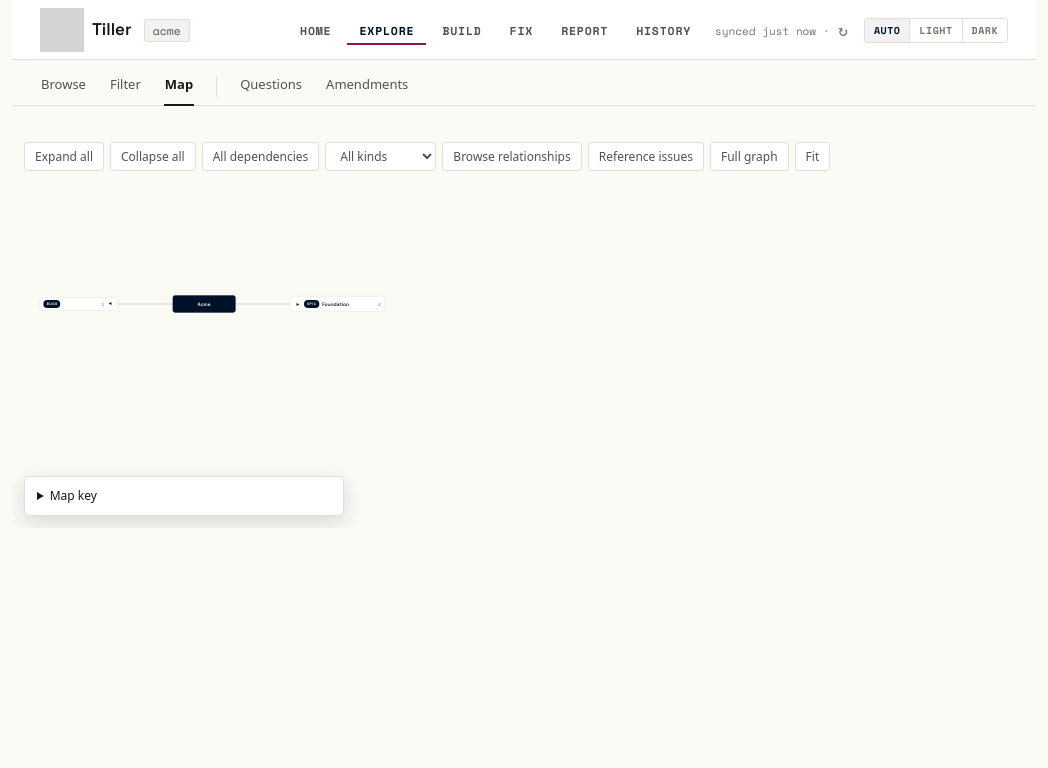
it: Explore: the map mode › pans to a node picked out of the docked card, and holds still for one clicked on the canvas
The width and height of the screenshot is (1048, 768).
expect the number of elements with class "map-card" is 3: met, box [173,295,236,312]; [291,296,385,312]; [39,297,118,310]
Click the button "Expand all" at {"x": 64, "y": 156}, box [24,142,104,171]
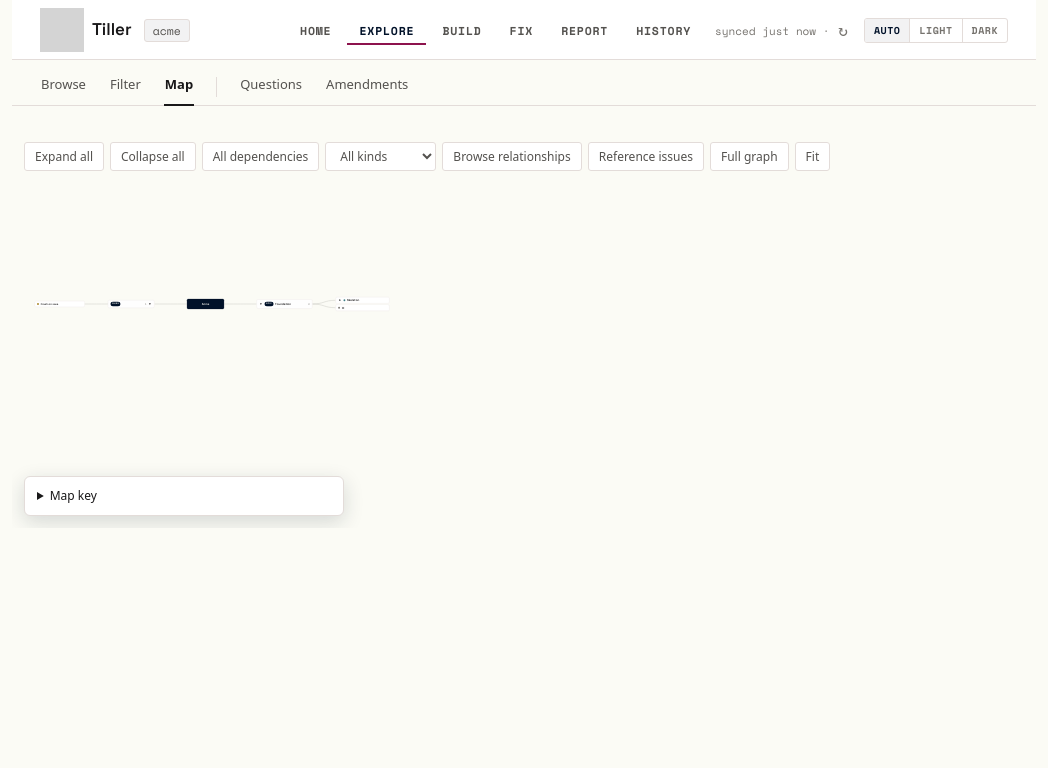
expect the number of elements with class "map-card" is 6: met, box [187,299,224,309]; [257,299,312,308]; [336,297,390,303]; [336,304,390,311]; [108,300,154,308]; [34,301,85,307]
Click the button "CI" at {"x": 363, "y": 307}, box [338,304,387,310]
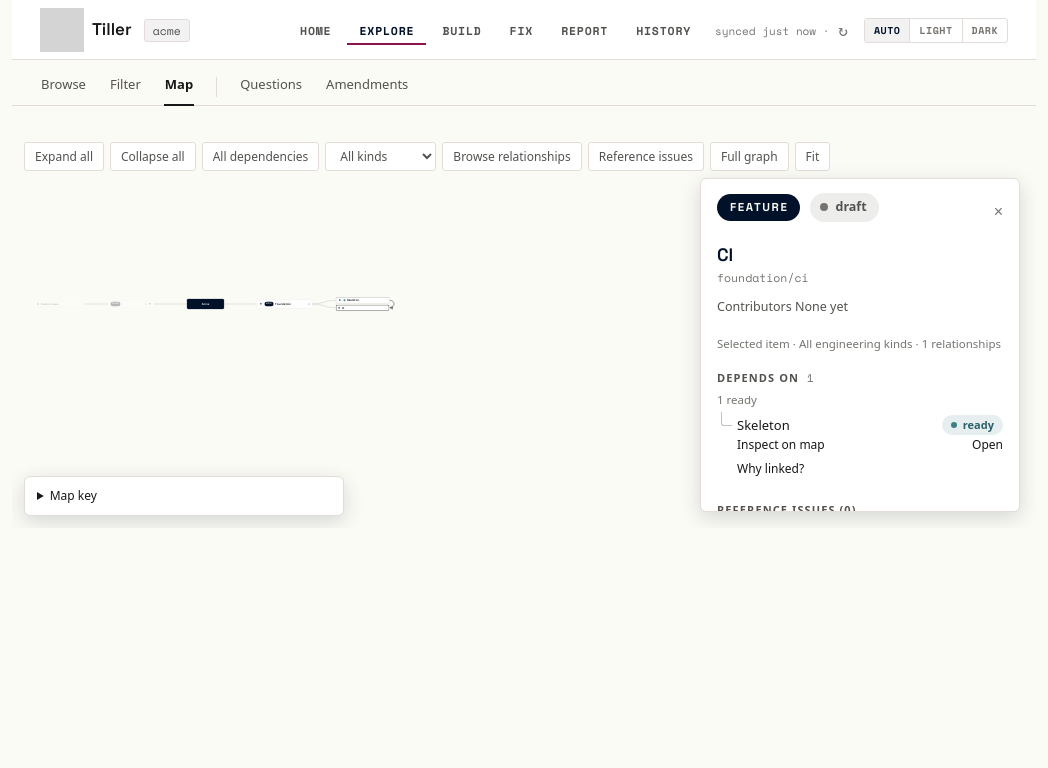
expect the heading "CI" is shown: met, box [717,242,733,266]
Click the button with aria-label "Inspect on map: Skeleton" at {"x": 849, "y": 445}, box [737,435,960,455]
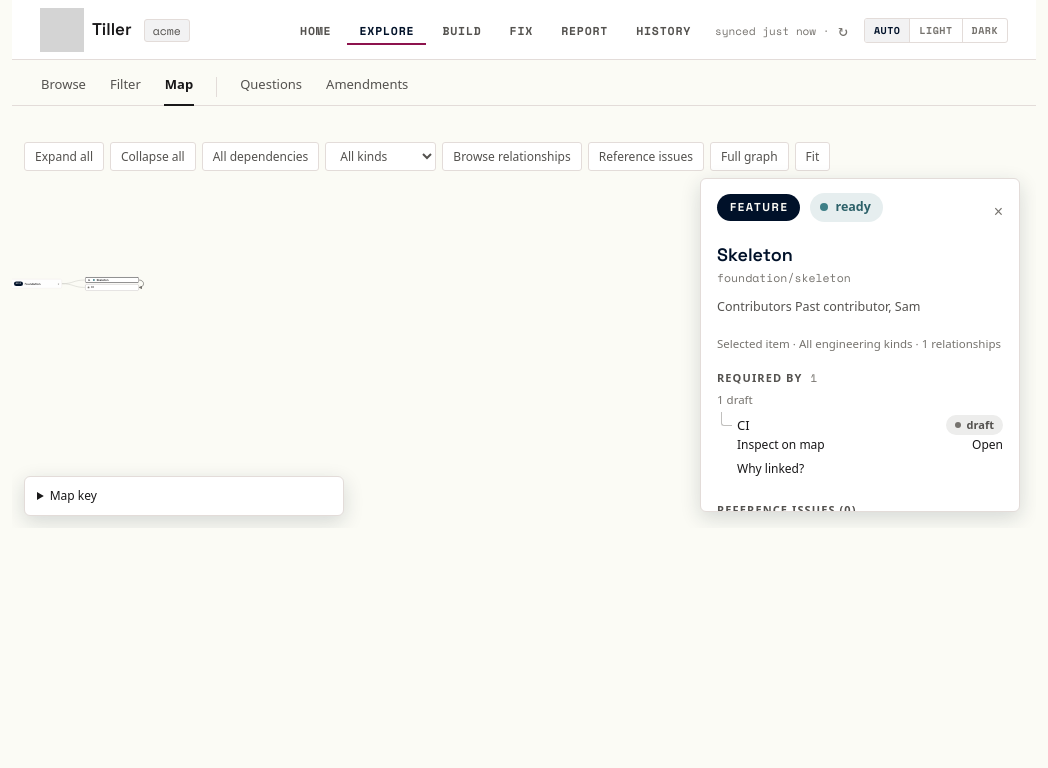
expect the heading "Skeleton" is shown: met, box [717,242,793,266]
